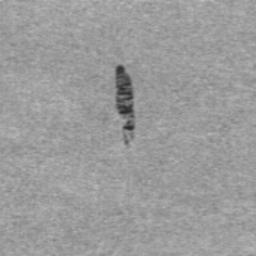Secondary rust skin: (114, 64, 136, 132), (123, 138, 130, 145)
